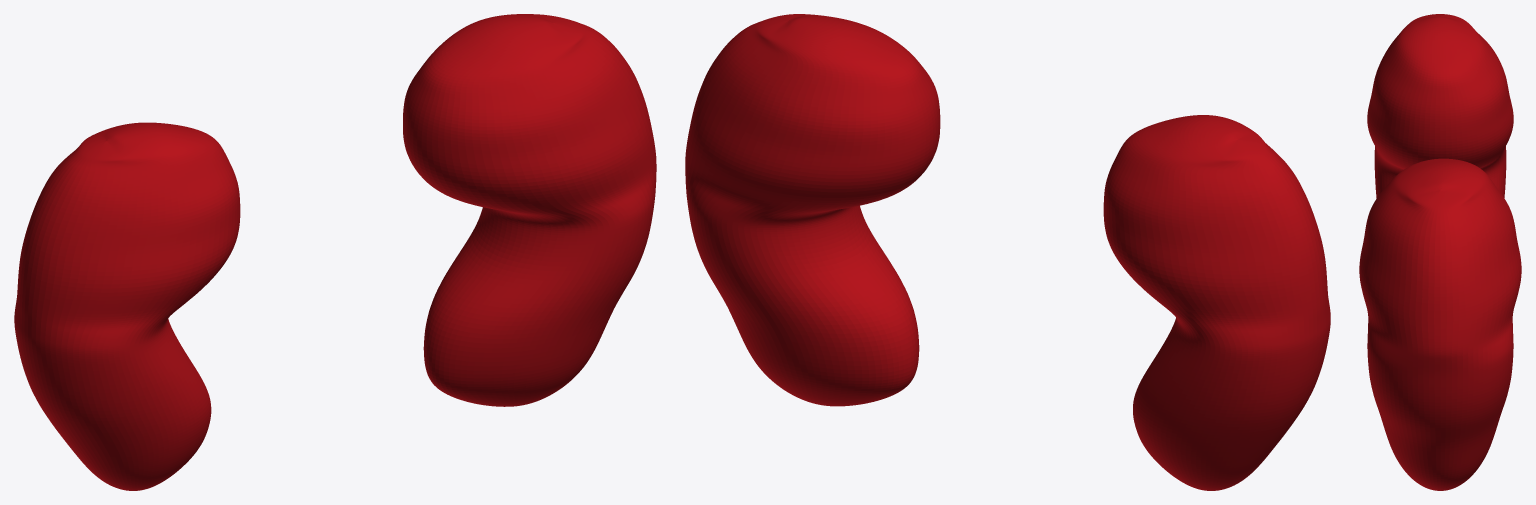
File: Kidneys.fbx
3 renders of one model, left to right at view 1: azimuth 30°, elevation 25°; view 2: azimuth 150°, elevation 25°; view 3: azimuth 270°, elevation 25°, orthographic. The views are drawn at different scales.
Visible parts, largest first — view 1: Kidneys; view 2: Kidneys; view 3: Kidneys.
Boxes of the visible parts, x1,y1,x2,y2 form: Kidneys: (14,14,656,490); Kidneys: (685,14,1330,490); Kidneys: (1359,14,1521,490).
Bounding box in the file's own units: 8.5 × 4.88 × 2.3.
